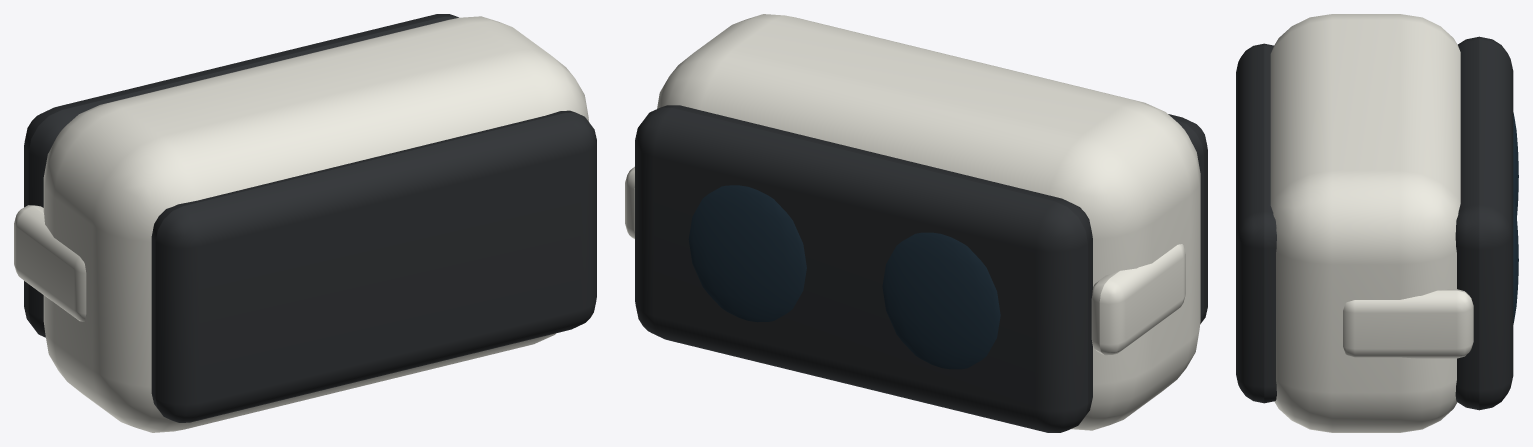
Rendered from headset.glb.
The picture shows the model from 3 angles, left to right: view 1: azimuth 30°, elevation 25°; view 2: azimuth 150°, elevation 25°; view 3: azimuth 270°, elevation 25°; orthographic projection. The views are drawn at different scales.
Visible parts, largest first — view 1: SM_headset; view 2: SM_headset; view 3: SM_headset.
Part boxes in pixels (<box>): SM_headset: <box>14,14,596,432</box>; SM_headset: <box>625,14,1207,432</box>; SM_headset: <box>1236,14,1518,432</box>.
Bounding box in the file's own units: 0.18 × 0.1 × 0.1.
